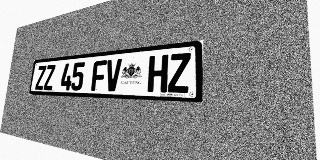4: (60, 63, 73, 90)
5: (71, 62, 85, 91)
F: (91, 60, 107, 91)
H: (147, 54, 168, 92)
V: (105, 59, 122, 91)
Z: (168, 52, 191, 93), (43, 65, 56, 90), (35, 65, 46, 90)
